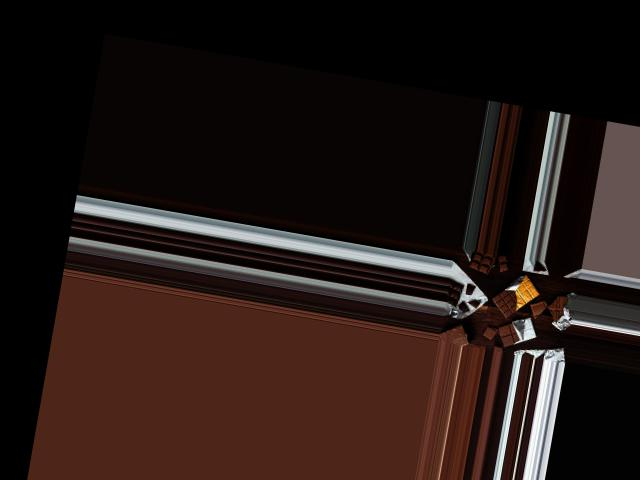chocolate: (494, 311, 537, 355)
